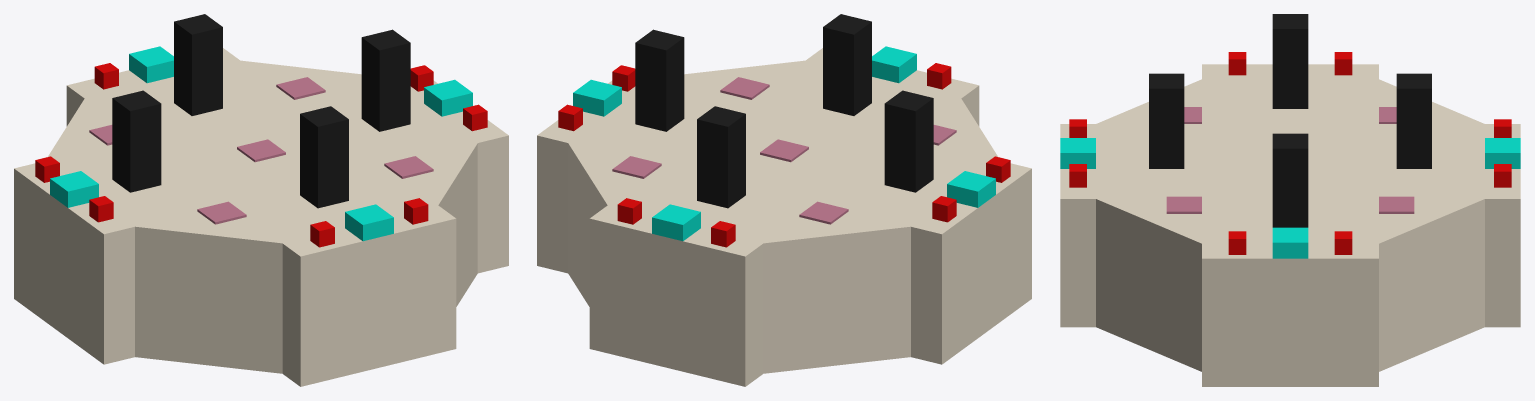
The model's file is Room1.fbx.
The picture shows the model from 3 angles, left to right: view 1: azimuth 30°, elevation 25°; view 2: azimuth 150°, elevation 25°; view 3: azimuth 270°, elevation 25°; orthographic projection.
Parts seen in each view (by area): view 1: Box001, Box003, Box005, Box002, Box004, Obstacle003, Obstacle004, Obstacle001, Obstacle002, Box006, Box007, Explosive_prop001 (+14 smaller); view 2: Box001, Box002, Box006, Box003, Box007, Obstacle003, Obstacle004, Obstacle002, Obstacle001, Box005, Box004, Explosive_prop004 (+14 smaller); view 3: Box001, Box004, Box007, Box002, Box003, Obstacle003, Obstacle004, Obstacle001, Obstacle002, Explosive_prop003, Box005, Box006 (+10 smaller).
Boxes of the visible parts, x1=… form: Box001: x1=14, y1=80, x2=508, y2=364; Box003: x1=231, y1=166, x2=456, y2=386; Box005: x1=135, y1=211, x2=282, y2=373; Box002: x1=66, y1=48, x2=293, y2=132; Box004: x1=402, y1=143, x2=477, y2=306; Obstacle003: x1=112, y1=90, x2=161, y2=192; Obstacle004: x1=361, y1=29, x2=410, y2=131; Obstacle001: x1=300, y1=106, x2=348, y2=208; Obstacle002: x1=174, y1=14, x2=222, y2=115; Box006: x1=48, y1=99, x2=112, y2=158; Box007: x1=241, y1=60, x2=361, y2=92; Explosive_prop001: x1=345, y1=204, x2=393, y2=241; Box001: x1=537, y1=80, x2=1031, y2=364; Box002: x1=589, y1=166, x2=814, y2=386; Box006: x1=763, y1=211, x2=910, y2=373; Box003: x1=752, y1=48, x2=979, y2=132; Box007: x1=568, y1=143, x2=643, y2=306; Obstacle003: x1=884, y1=90, x2=933, y2=192; Obstacle004: x1=635, y1=29, x2=684, y2=131; Obstacle002: x1=697, y1=106, x2=745, y2=208; Obstacle001: x1=823, y1=14, x2=871, y2=115; Box005: x1=933, y1=99, x2=997, y2=158; Box004: x1=684, y1=60, x2=804, y2=92; Explosive_prop004: x1=652, y1=204, x2=700, y2=241; Box001: x1=1202, y1=64, x2=1378, y2=386; Box004: x1=1096, y1=199, x2=1201, y2=371; Box007: x1=1379, y1=199, x2=1484, y2=371; Box002: x1=1379, y1=124, x2=1520, y2=327; Box003: x1=1060, y1=124, x2=1201, y2=327; Obstacle003: x1=1272, y1=14, x2=1308, y2=108; Obstacle004: x1=1272, y1=133, x2=1308, y2=227; Obstacle001: x1=1149, y1=73, x2=1184, y2=168; Obstacle002: x1=1396, y1=73, x2=1431, y2=168; Explosive_prop003: x1=1272, y1=227, x2=1308, y2=258; Box005: x1=1096, y1=79, x2=1201, y2=123; Box006: x1=1379, y1=79, x2=1484, y2=123.
Size of the model in its own units: 39.52 by 19.76 by 39.52.
